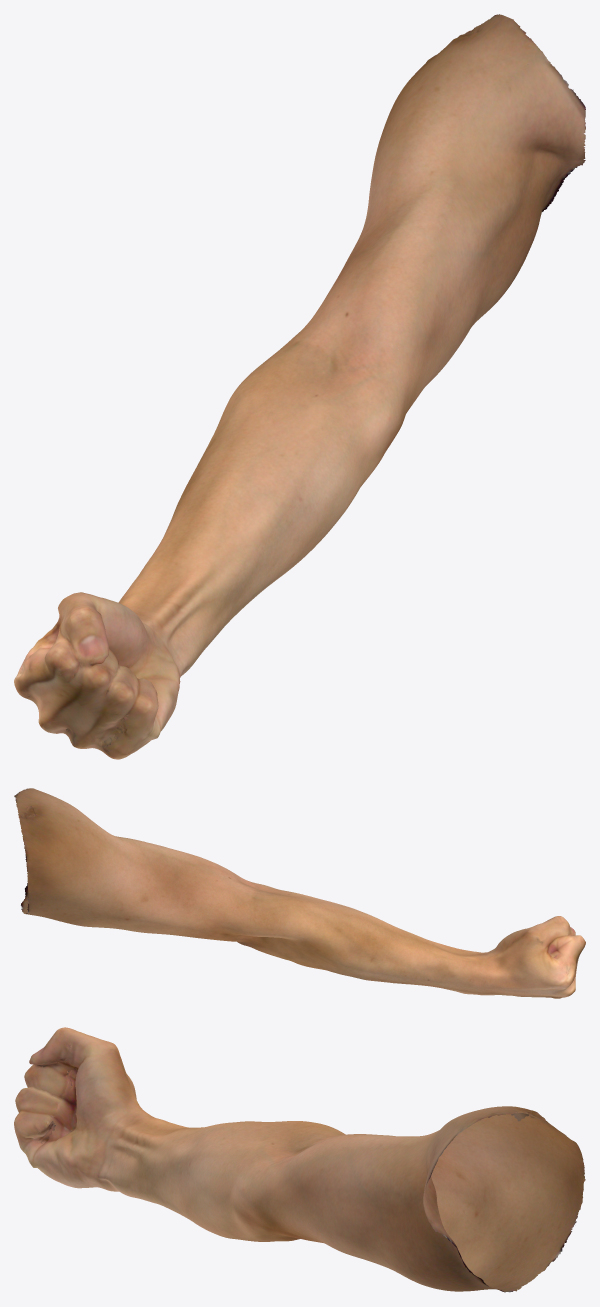
Rendered from einscan_h_arm.glb.
3 renders of one model, top to bottom at view 1: azimuth 30°, elevation 25°; view 2: azimuth 150°, elevation 25°; view 3: azimuth 270°, elevation 25°, orthographic. The views are drawn at different scales.
Visible parts, largest first — view 1: Object_3, Object_4, Object_2, Object_5; view 2: Object_2, Object_3, Object_4, Object_5; view 3: Object_2, Object_4, Object_3, Object_5.
Boxes of the visible parts, bbox=[...] form: Object_3: bbox=[113, 123, 510, 759]; Object_4: bbox=[14, 256, 450, 759]; Object_2: bbox=[344, 14, 585, 350]; Object_5: bbox=[255, 202, 475, 421]; Object_2: bbox=[14, 788, 214, 938]; Object_3: bbox=[103, 829, 526, 996]; Object_4: bbox=[184, 852, 585, 998]; Object_5: bbox=[141, 841, 314, 965]; Object_2: bbox=[304, 1106, 585, 1292]; Object_4: bbox=[14, 1027, 359, 1241]; Object_3: bbox=[45, 1097, 451, 1259]; Object_5: bbox=[257, 1130, 395, 1242].
Bounding box in the file's own units: 518 × 253 × 386.
Materials: 1 (1 with a texture image).
